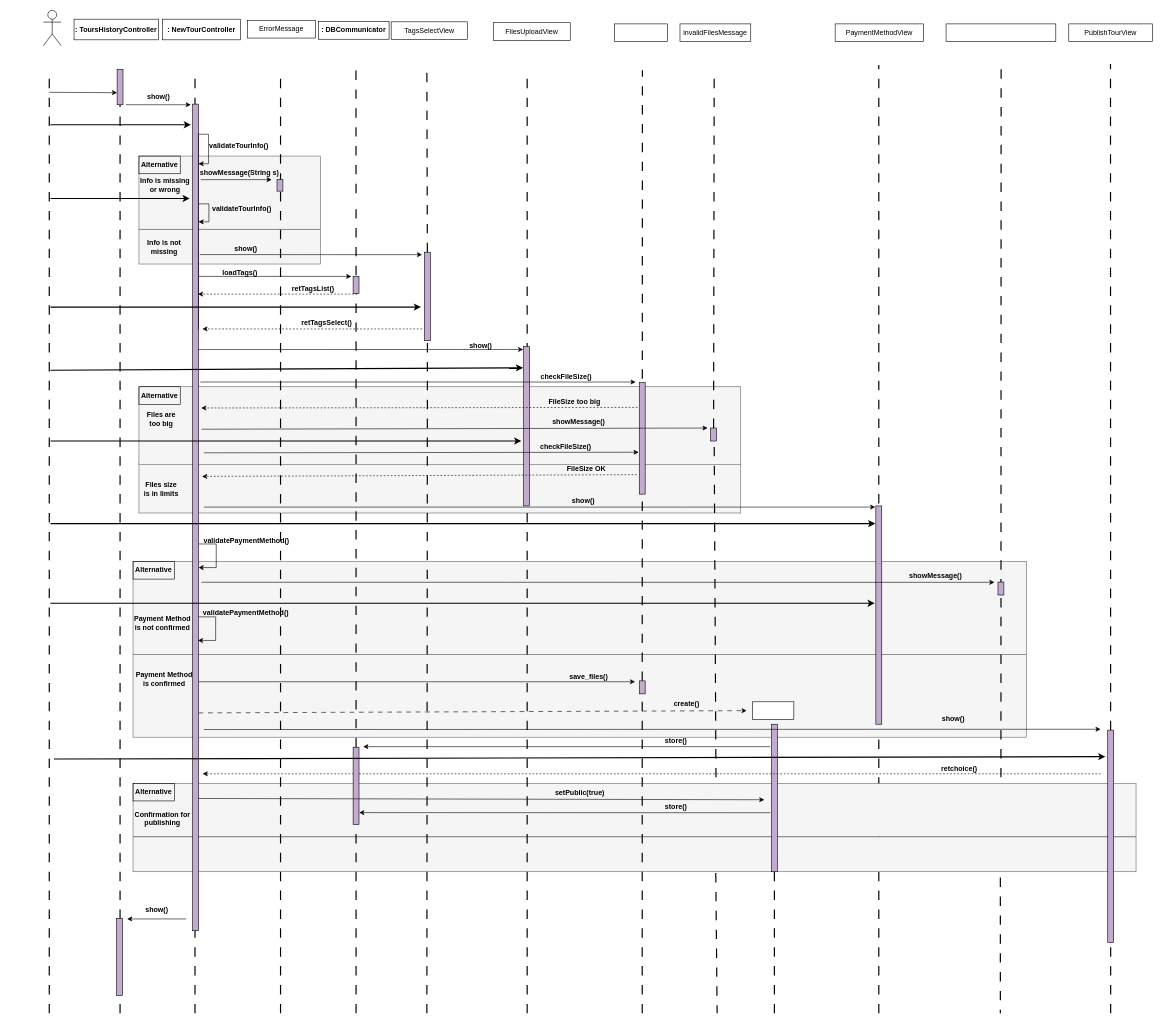
Some shapes in this 1163 by 1025 pixel diagram are drawn without their labels. The shapes that lost their labels are listed below. From the top down, each one's centre as x and y in pixels, then its label:
At (52,28): "Ξεναγός / Πολιτιστικός οργανισμός".
At (641,32): "userfiles".
At (1000,32): "InvalidPaymentMenthodMessage".
At (773,710): "New : Tour".
At (634,854): "Confirmation for saving".
